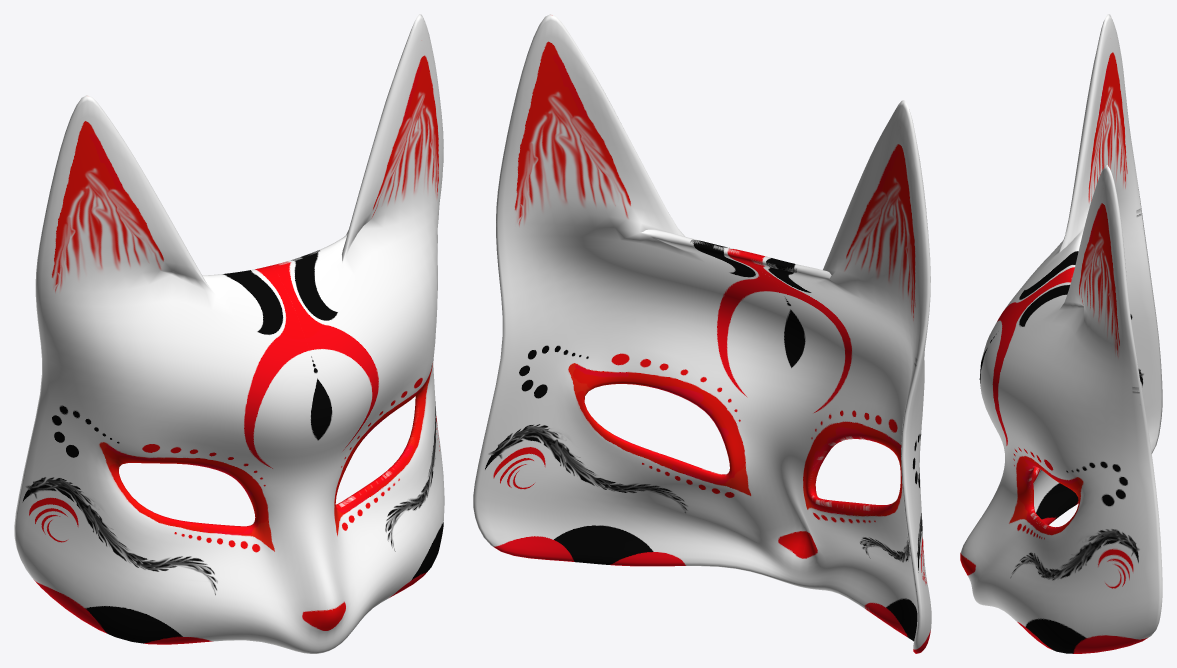
The model's file is kitsune remake2 sparkar.gltf.
The picture shows the model from 3 angles, left to right: view 1: azimuth 30°, elevation 25°; view 2: azimuth 150°, elevation 25°; view 3: azimuth 270°, elevation 25°; orthographic projection. The views are drawn at different scales.
Visible parts, largest first — view 1: Plane; view 2: Plane; view 3: Plane.
Part boxes in pixels (bbox=[...]): Plane: bbox=[14, 14, 444, 653]; Plane: bbox=[473, 14, 931, 653]; Plane: bbox=[960, 14, 1162, 653].
Size of the model in its own units: 3.88 by 4.84 by 1.74.
Materials: 1 (1 with a texture image).
